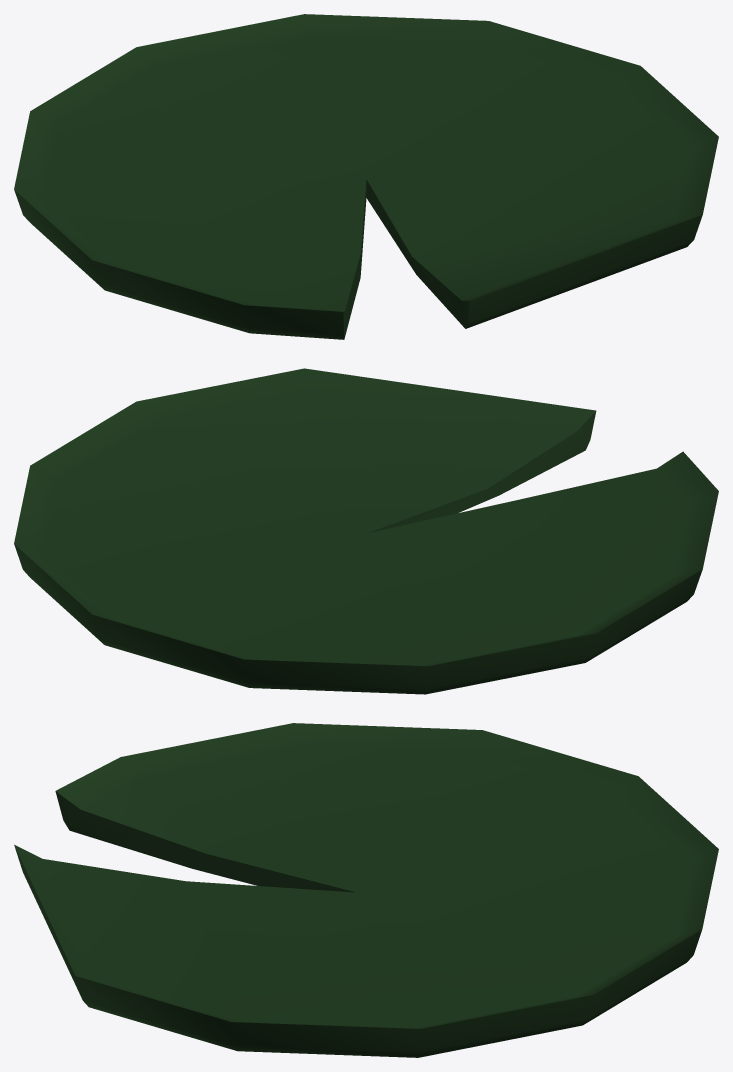
File: M_LilyPad_CO 1.fbx
3 renders of one model, top to bottom at view 1: azimuth 30°, elevation 25°; view 2: azimuth 150°, elevation 25°; view 3: azimuth 270°, elevation 25°, orthographic. The views are drawn at different scales.
Parts seen in each view (by area): view 1: pDisc1; view 2: pDisc1; view 3: pDisc1.
Part boxes in pixels (x1=…): pDisc1: x1=14, y1=14, x2=718, y2=339; pDisc1: x1=14, y1=368, x2=718, y2=694; pDisc1: x1=14, y1=723, x2=718, y2=1057.
Size of the model in its own units: 108 by 5.89 by 105.
